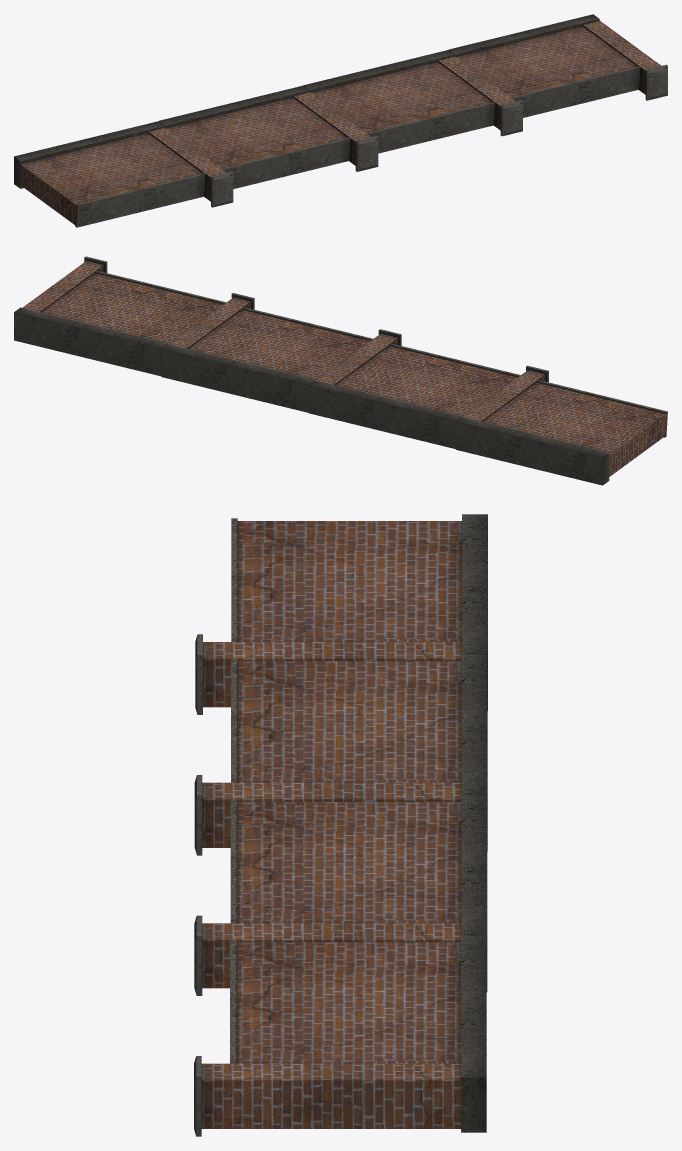
File: brickWall.obj
3 views of the same model, one above another, from view 1: azimuth 30°, elevation 25°; view 2: azimuth 150°, elevation 25°; view 3: azimuth 270°, elevation 25° (orthographic). The views are drawn at different scales.
Parts seen in each view (by area): view 1: brickWall.002; view 2: brickWall.002; view 3: brickWall.002.
Boxes of the visible parts, box(x1,y1,x2,y2) form: brickWall.002: box(14, 14, 667, 227); brickWall.002: box(14, 256, 667, 485); brickWall.002: box(194, 514, 487, 1136).
Size of the model in its own units: 1114 by 57.02 by 244.
1 material, 1 textured.
